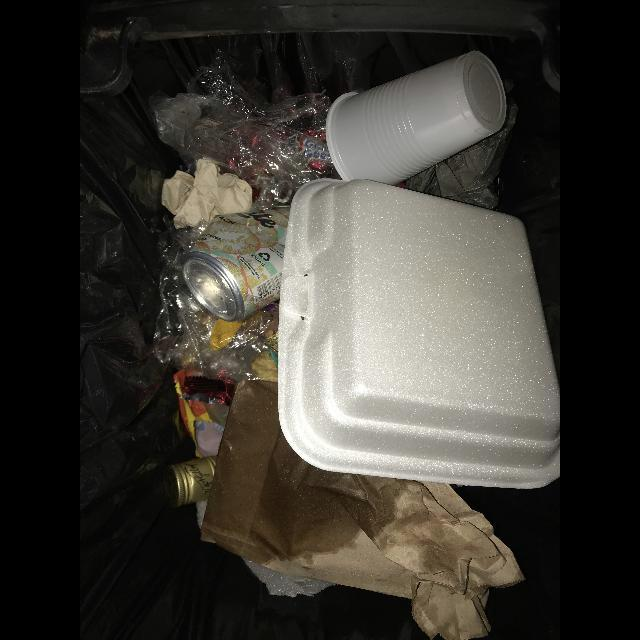aluminum: (182, 210, 289, 322)
paper: (201, 380, 528, 640), (161, 159, 253, 231)
plastic_container: (325, 51, 507, 186)
